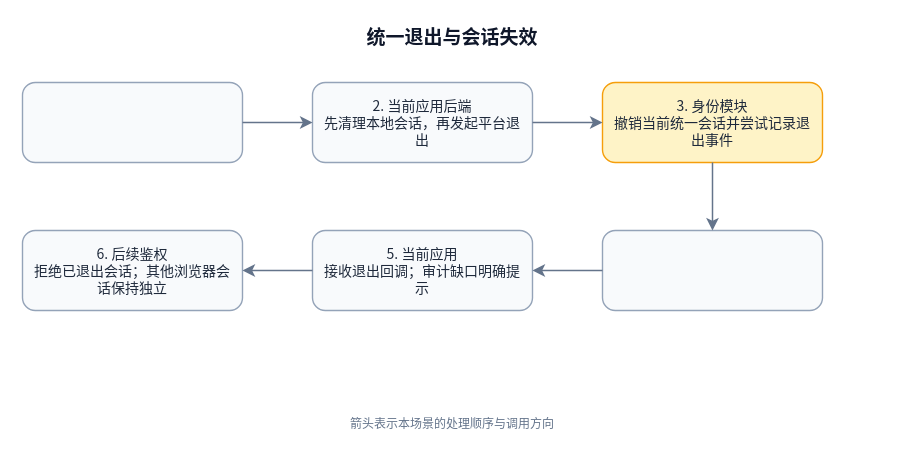
Some shapes in this 904 by 454 pixel diagram are drawn without their labels. Each missing label, with the centre of its shape:
1. 用户 从任一已登录应用发起统一退出: the point at 132,122
4. 平台 返回退出已确认或审计缺口: the point at 712,270
